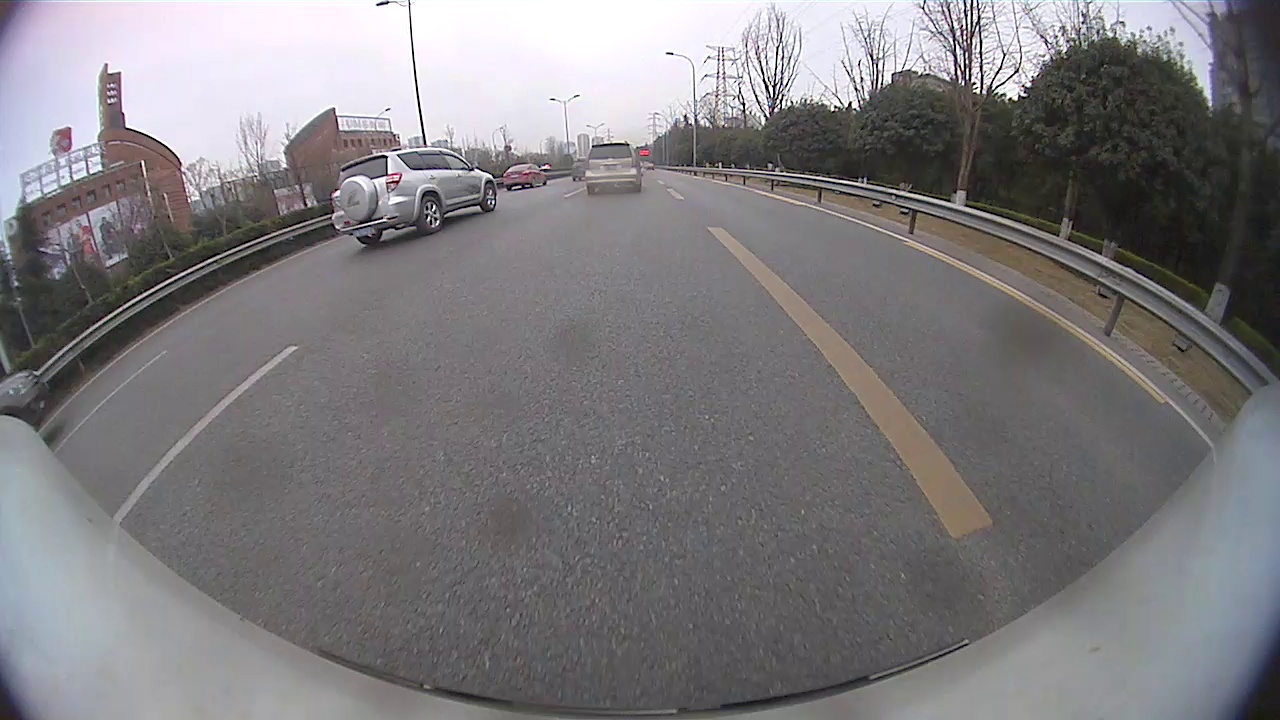car: (331, 146, 498, 247), (584, 142, 642, 196), (1, 368, 52, 429), (503, 163, 545, 191), (572, 158, 583, 181)
front: (481, 183, 497, 212)
rear: (421, 197, 444, 233)
